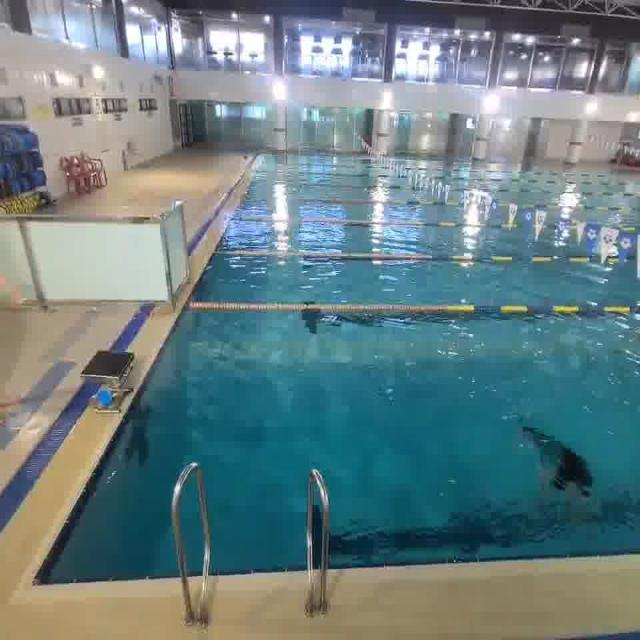drowning: (496, 404, 618, 524)
